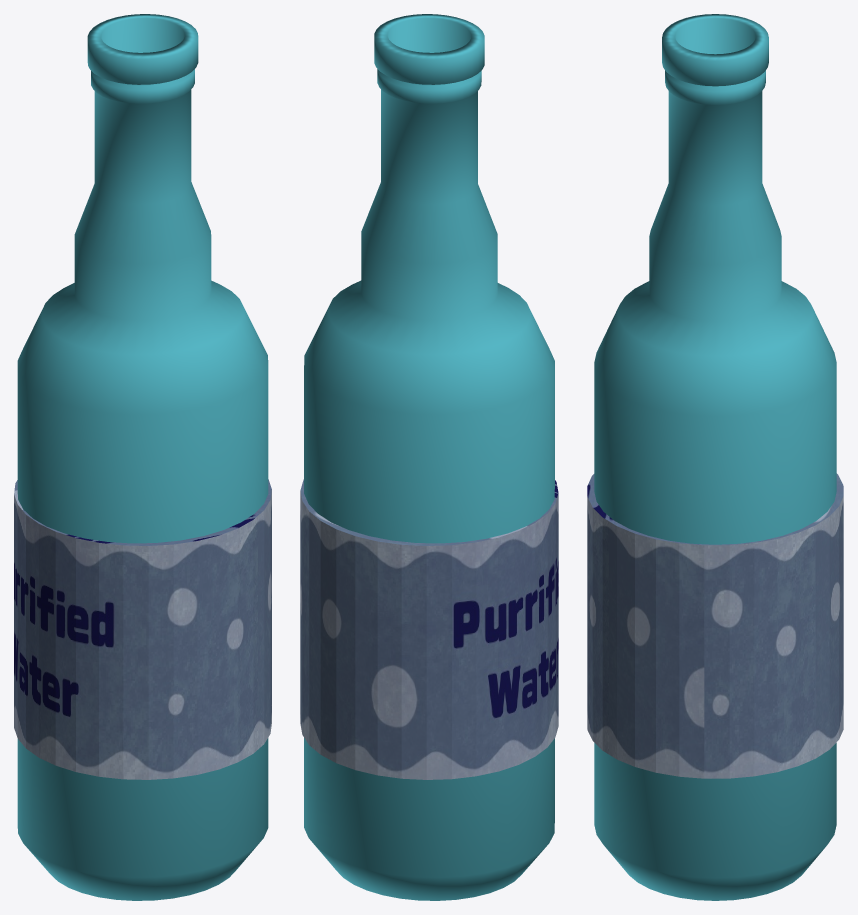
File: WaterBottle.glb
3 views of the same model, side by side, from view 1: azimuth 30°, elevation 25°; view 2: azimuth 150°, elevation 25°; view 3: azimuth 270°, elevation 25° (orthographic).
Visible parts, largest first — view 1: Cylinder.100, Cylinder.089; view 2: Cylinder.100, Cylinder.089; view 3: Cylinder.100, Cylinder.089.
Boxes of the visible parts, box(x1,y1,x2,y2) form: Cylinder.100: box(17, 14, 268, 900); Cylinder.089: box(14, 479, 271, 779); Cylinder.100: box(304, 14, 554, 900); Cylinder.089: box(300, 479, 558, 779); Cylinder.100: box(594, 14, 836, 900); Cylinder.089: box(587, 473, 843, 778).
Bounding box in the file's own units: 0.1217 × 0.4311 × 0.1217.
2 materials, 1 textured.
